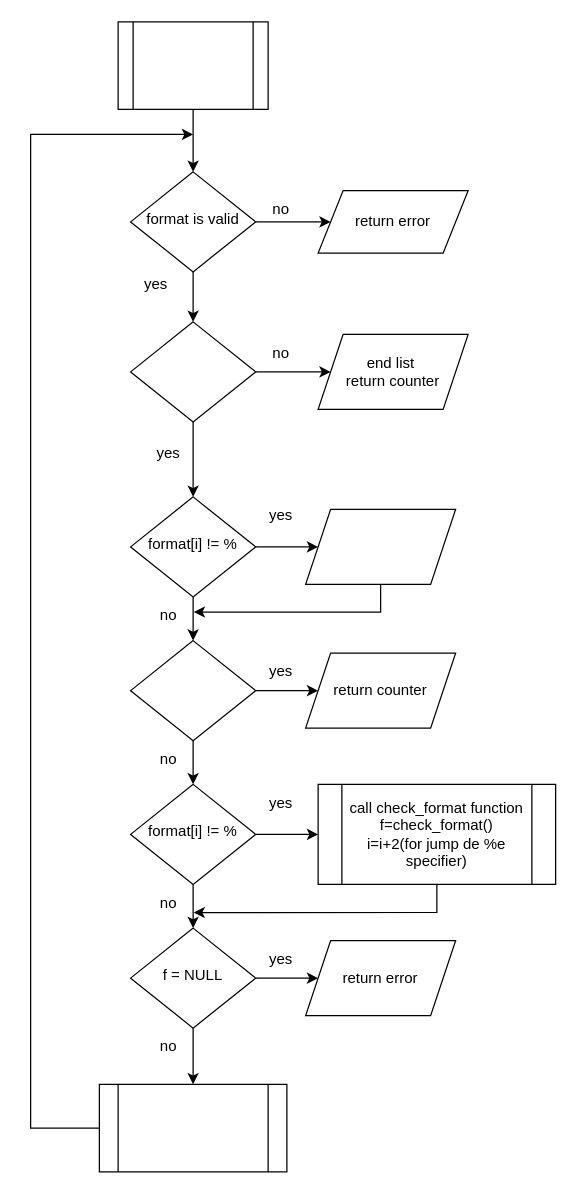
Image size: 578x1194. Some labels were removed from this diagram. The box of each missing label's shape, as (x1, y1, x2, y2) in pixels:
counter = counter + f(list of vardiac function): (98, 1083, 287, 1172)
format[i] !='\0': (129, 639, 256, 741)
format[i] is valid: (129, 321, 256, 422)
print format[i]; counter++; i++;: (304, 508, 456, 584)
Variadic function with specifiers for compare: (117, 21, 268, 109)
